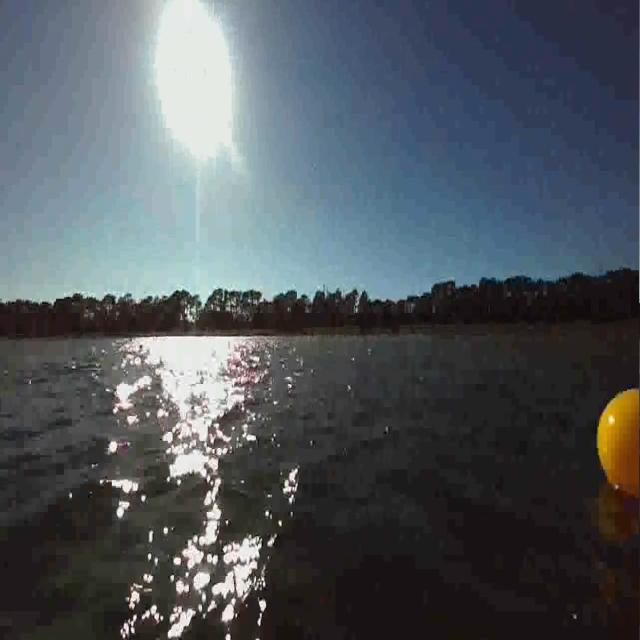yellow-buoy: (596, 387, 640, 503)
